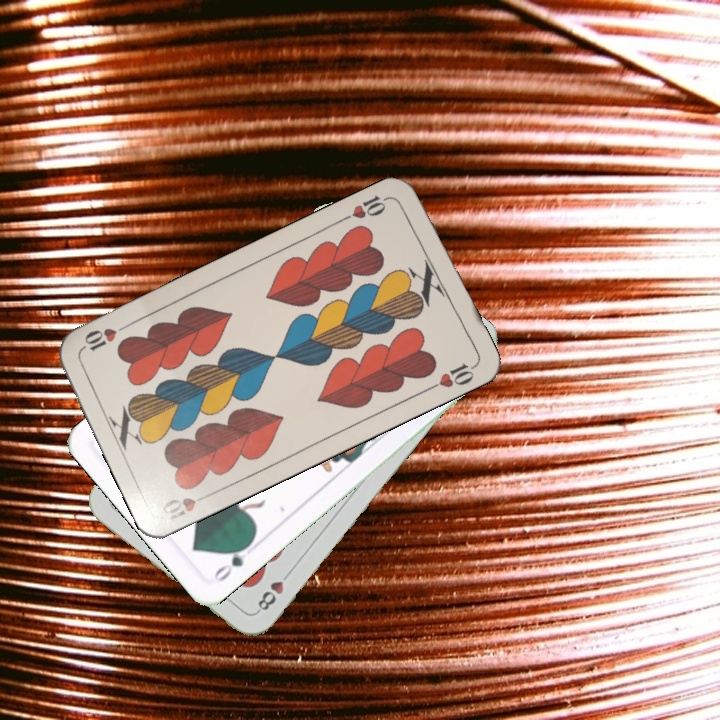GO: (209, 538, 255, 585)
H10: (157, 488, 215, 525), (339, 190, 395, 223)
H8: (252, 566, 294, 616)
